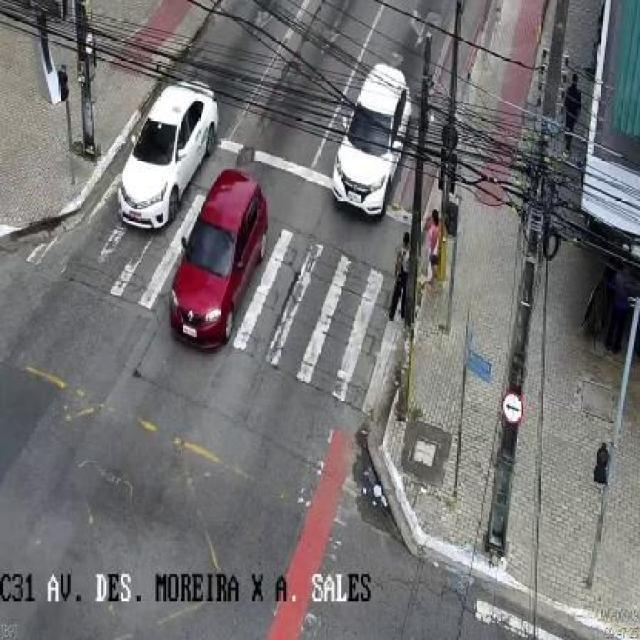Car: (166, 165, 269, 347), (114, 73, 218, 229), (326, 63, 409, 215)
